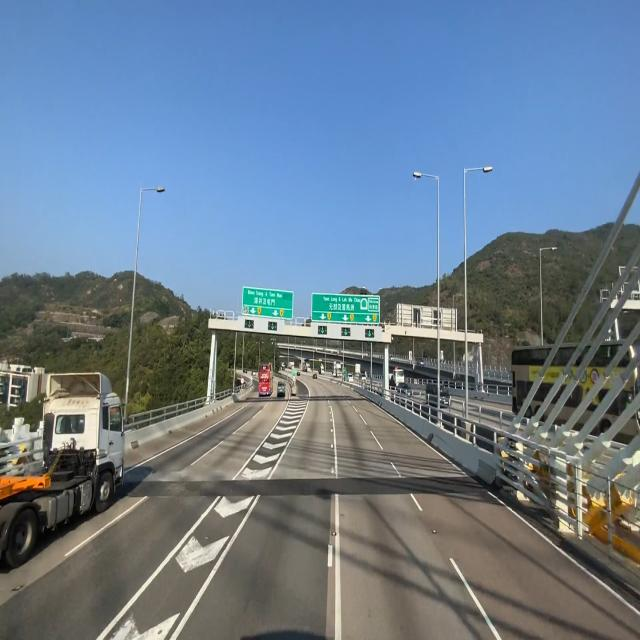Car: (0, 365, 128, 576)
